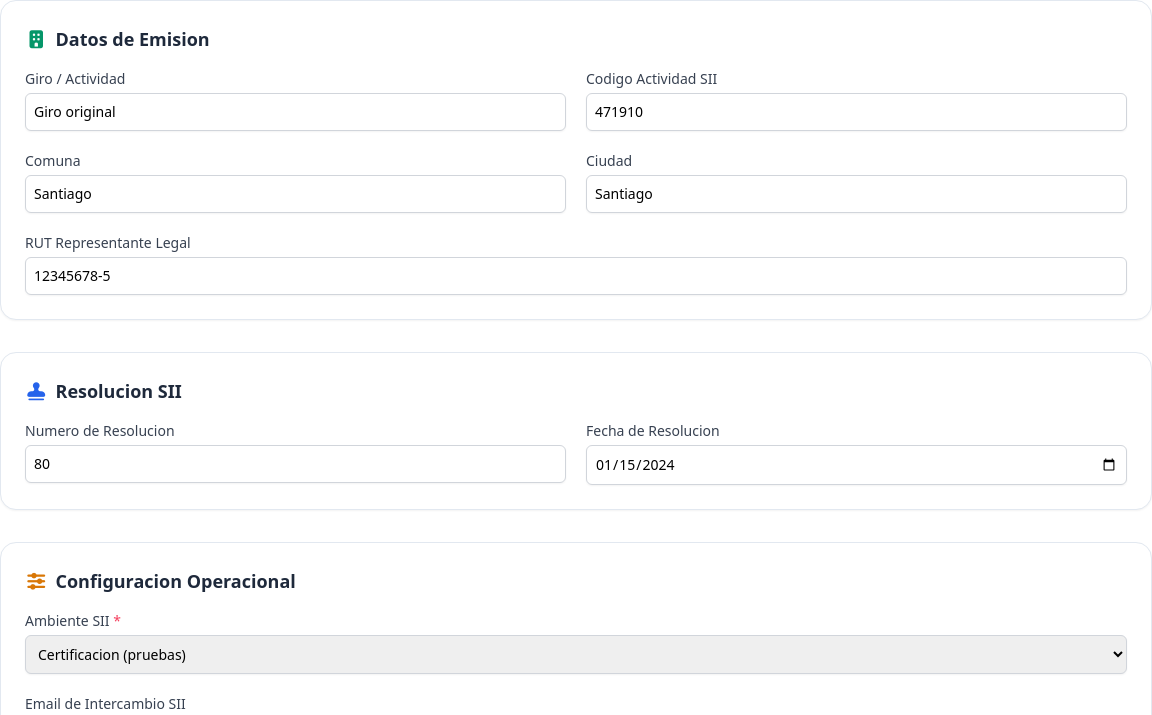
Scenario: FormularioConfiguracionSii › bloquea submit si el RUT representante legal tiene DV incorrecto
Replace the text in the field labelled "RUT Representante Legal" with "11111111-9" at (576, 276), box [25,257,1127,295]
(page scrolled)
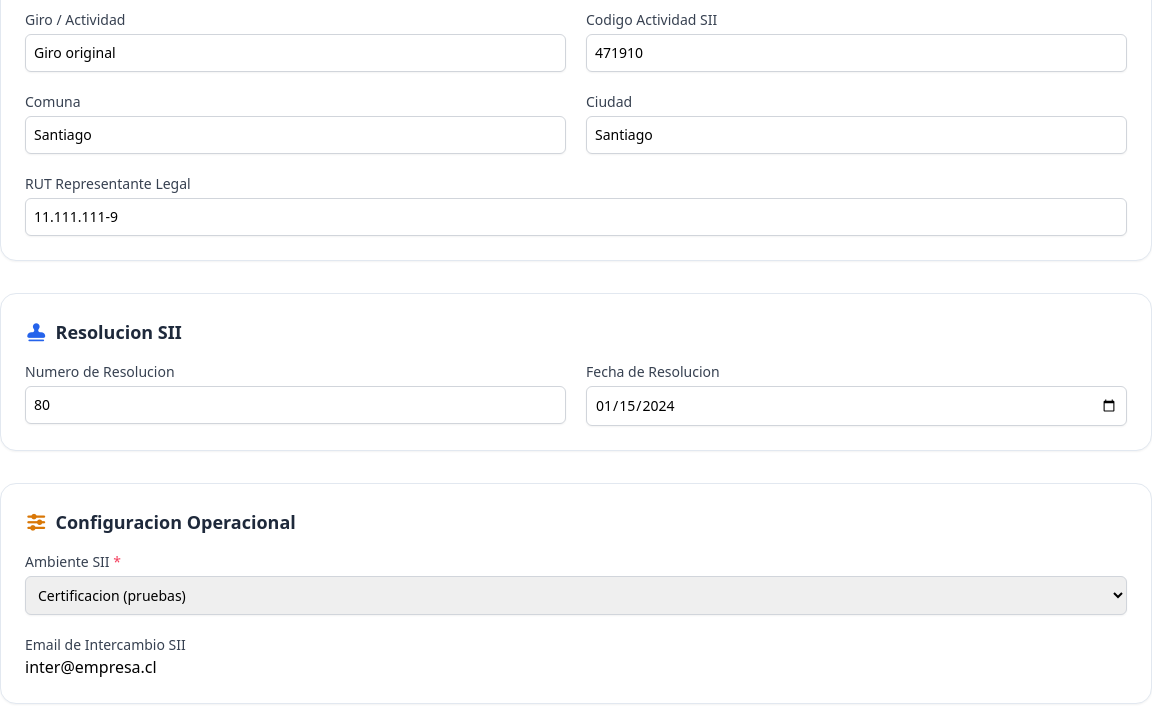
Submit the form with test id "form-sii-configuracion"
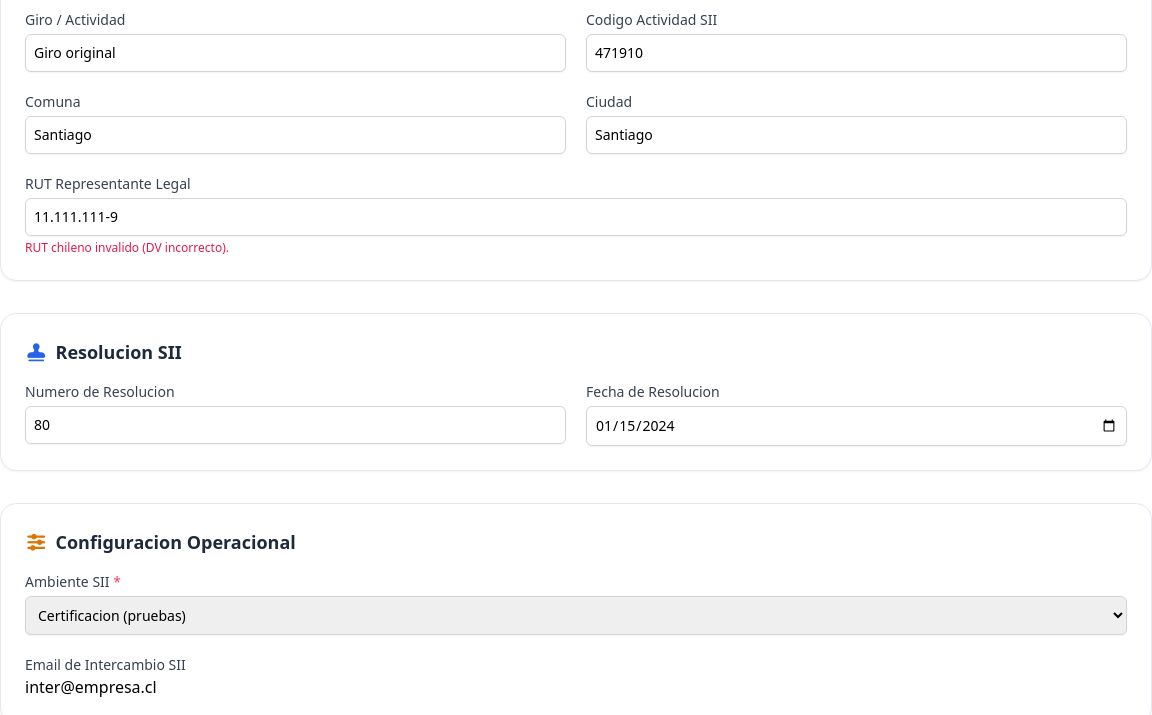
Expected: the text "RUT chileno invalido (DV incorrecto)." is shown, [25,239,229,256]
